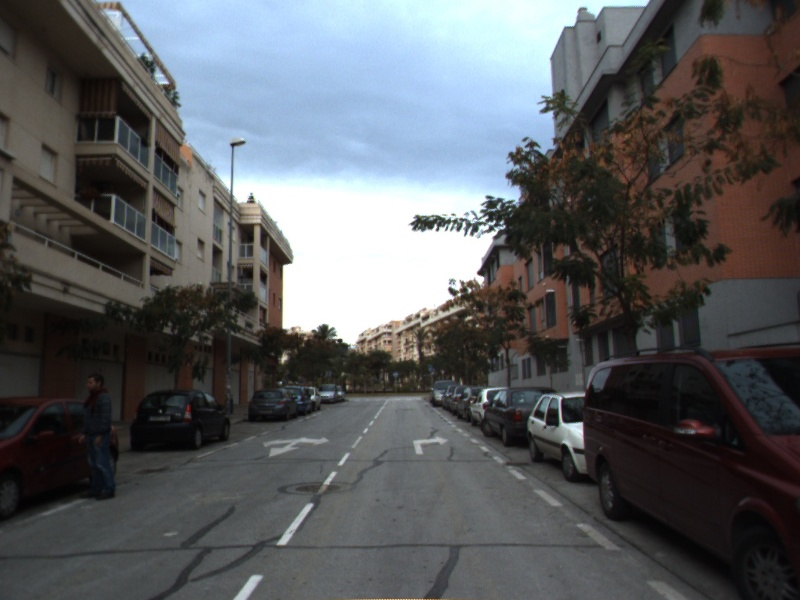RIGHT: (411, 433, 451, 456)
